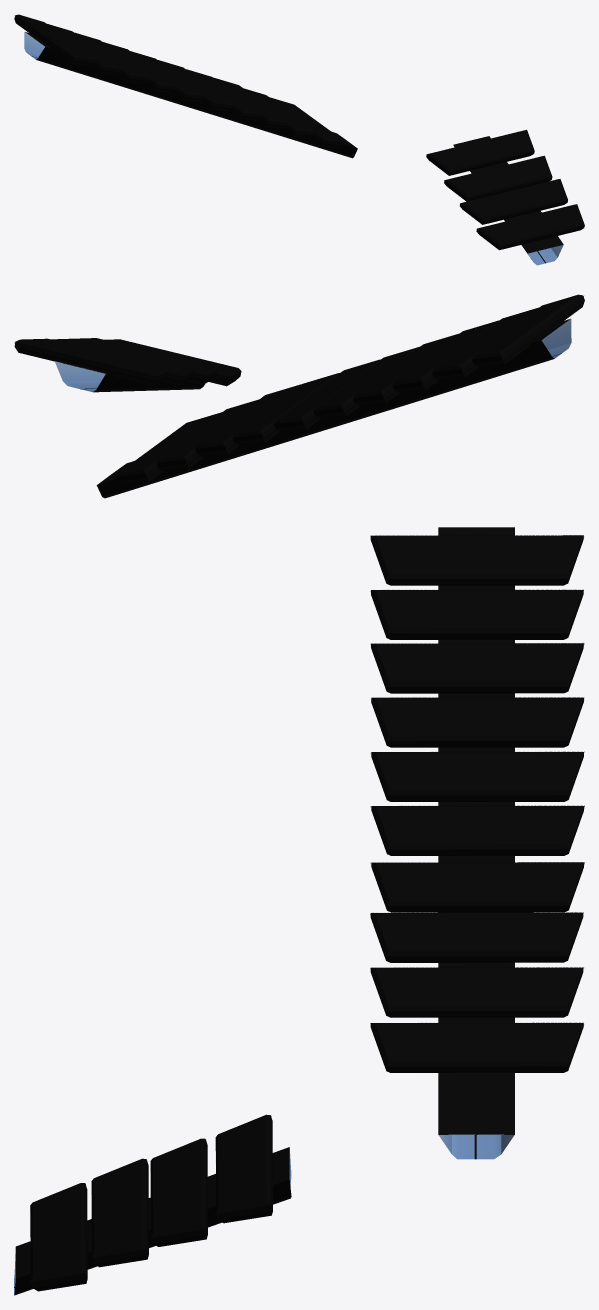
Rendered from Platform_Stairs_04.glb.
3 renders of one model, top to bottom at view 1: azimuth 30°, elevation 25°; view 2: azimuth 150°, elevation 25°; view 3: azimuth 270°, elevation 25°, orthographic. The views are drawn at different scales.
Visible parts, largest first — view 1: Platform_Stairs_04; view 2: Platform_Stairs_04; view 3: Platform_Stairs_04.
Boxes of the visible parts, x1,y1,x2,y2 form: Platform_Stairs_04: [14, 14, 584, 265]; Platform_Stairs_04: [14, 294, 584, 498]; Platform_Stairs_04: [14, 527, 584, 1295].
Bounding box in the file's own units: 10.2 × 5.04 × 6.24.
3 materials, 2 textured.
